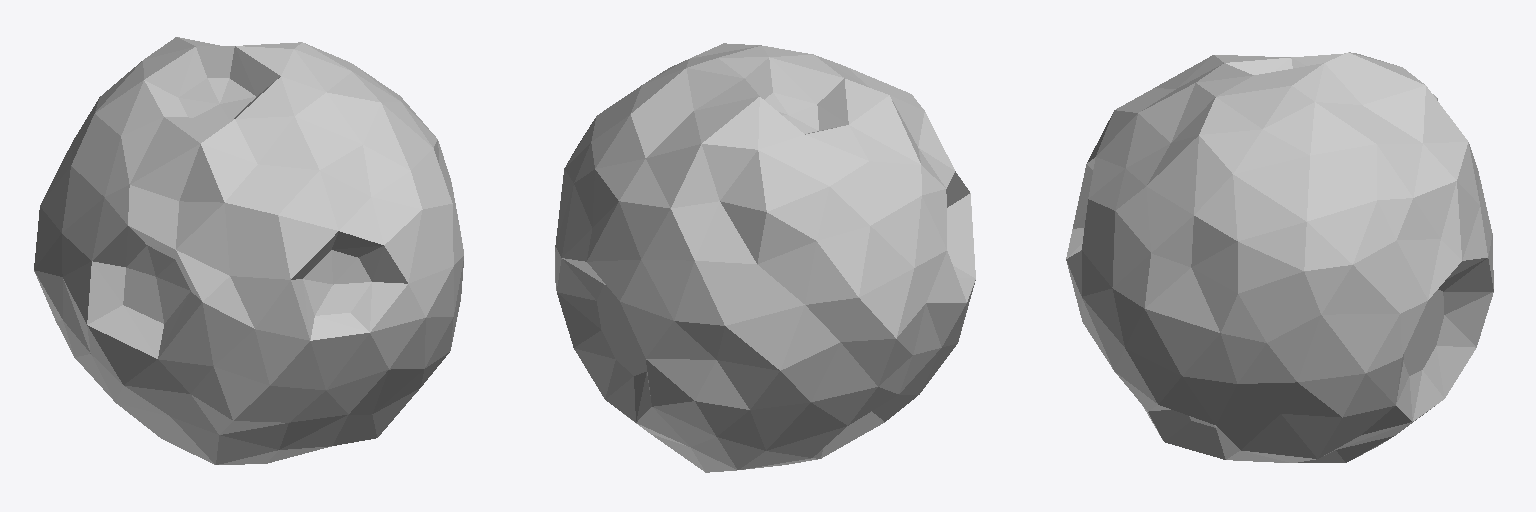
File: moon.obj
The picture shows the model from 3 angles: view 1: azimuth 30°, elevation 25°; view 2: azimuth 150°, elevation 25°; view 3: azimuth 270°, elevation 25°; orthographic projection.
Visible parts, largest first — view 1: Moon; view 2: Moon; view 3: Moon.
Part boxes in pixels (x1,y1,x2,y2): Moon: (34,37,463,464); Moon: (555,43,975,472); Moon: (1066,52,1493,462).
Size of the model in its own units: 1.97 by 1.98 by 1.98.